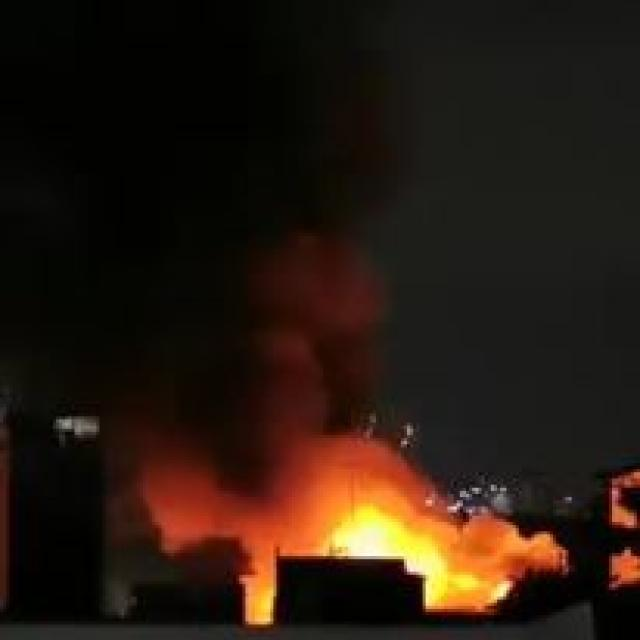Fire: (334, 502, 424, 554)
Smoke: (192, 244, 482, 531), (436, 524, 526, 586)
